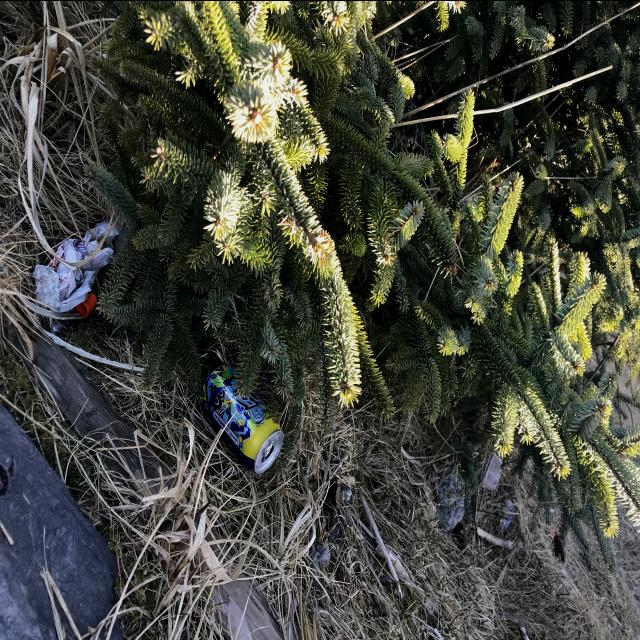Disposable food container: (482, 451, 503, 489)
Drink can: (198, 363, 284, 473)
Plastic bottle cap: (77, 291, 97, 316)
Pop tab: (264, 439, 273, 456)
Unlabeled litter: (50, 219, 129, 312), (34, 265, 60, 309), (503, 498, 515, 532)
